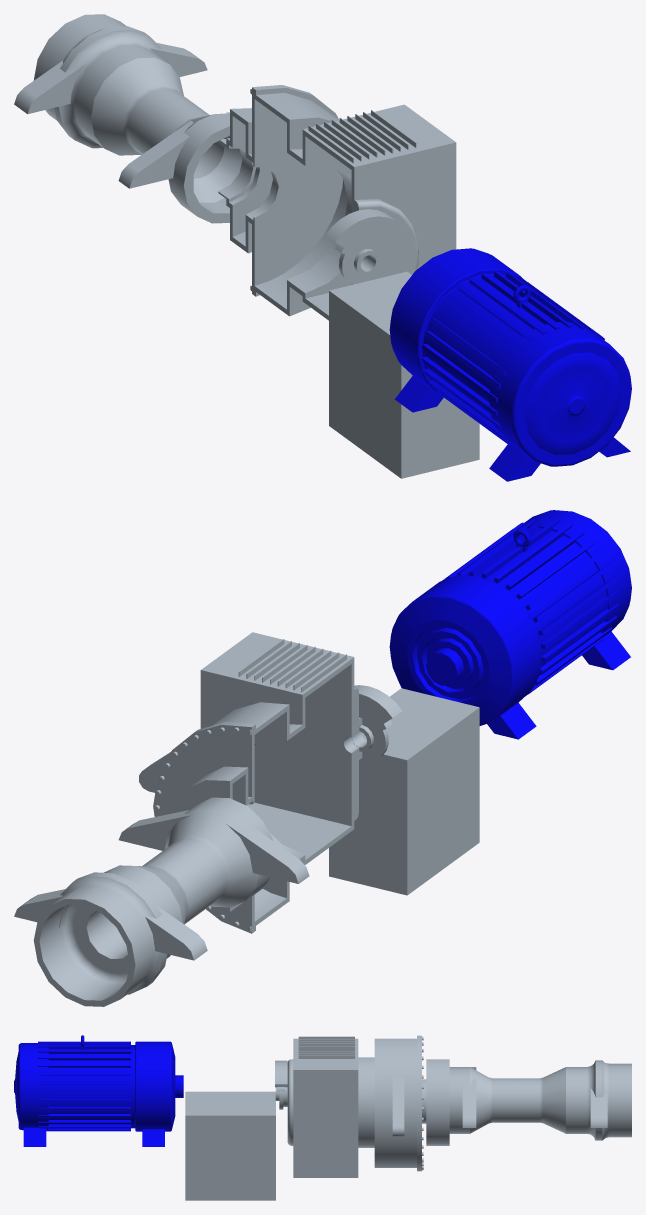
The model's file is fixed_parts.obj.
3 views of the same model, one above another, from view 1: azimuth 30°, elevation 25°; view 2: azimuth 150°, elevation 25°; view 3: azimuth 270°, elevation 25° (orthographic). The views are drawn at different scales.
Parts seen in each view (by area): view 1: 2, 4, 1, 6, 7; view 2: 2, 4, 1, 6, 7; view 3: 2, 4, 1, 6, 7.
Boxes of the visible parts, x1,y1,x2,y2 form: 2: (218, 85, 456, 320); 4: (389, 248, 631, 481); 1: (14, 14, 242, 223); 6: (329, 271, 479, 478); 7: (325, 209, 402, 284); 2: (139, 632, 362, 933); 4: (389, 510, 631, 739); 1: (14, 797, 309, 1006); 6: (329, 688, 479, 895); 7: (351, 685, 402, 762); 2: (283, 1035, 449, 1177); 4: (14, 1035, 183, 1146); 1: (449, 1060, 631, 1140); 6: (185, 1091, 275, 1200); 7: (275, 1060, 287, 1109).
Bounding box in the file's own units: 54.62 × 58.57 × 214.
